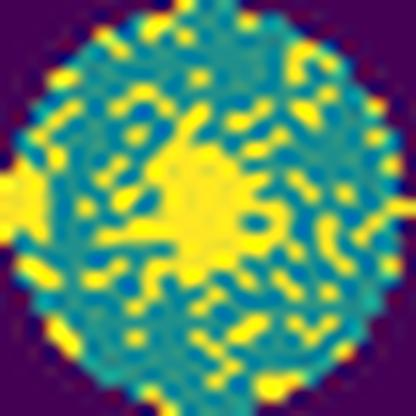Center: (94, 102, 294, 318)
